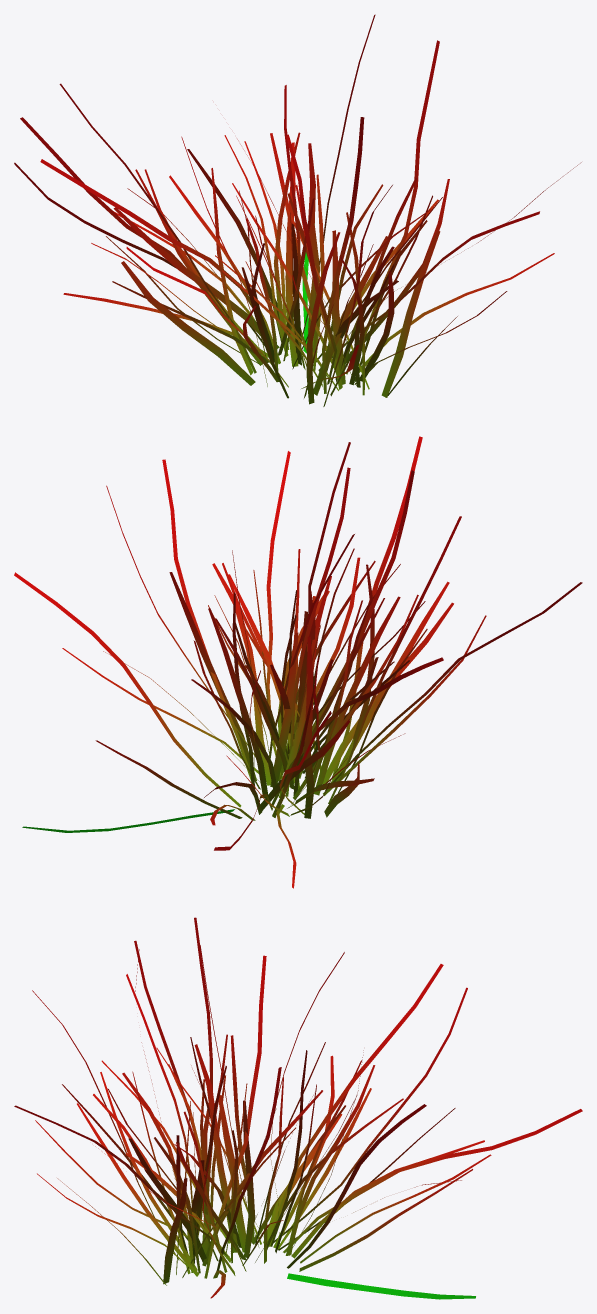
The model's file is Wild Grass_LOD2_Var5_vlkhcbxia.fbx.
3 views of the same model, one above another, from view 1: azimuth 30°, elevation 25°; view 2: azimuth 150°, elevation 25°; view 3: azimuth 270°, elevation 25° (orthographic). The views are drawn at different scales.
Parts seen in each view (by area): view 1: _ea68_Var5_LOD2; view 2: _ea68_Var5_LOD2; view 3: _ea68_Var5_LOD2.
Part boxes in pixels (x1,y1,x2,y2): _ea68_Var5_LOD2: (14,14,581,406); _ea68_Var5_LOD2: (14,436,582,888); _ea68_Var5_LOD2: (14,917,582,1299).
Bounding box in the file's own units: 35.92 × 23.49 × 39.89.
